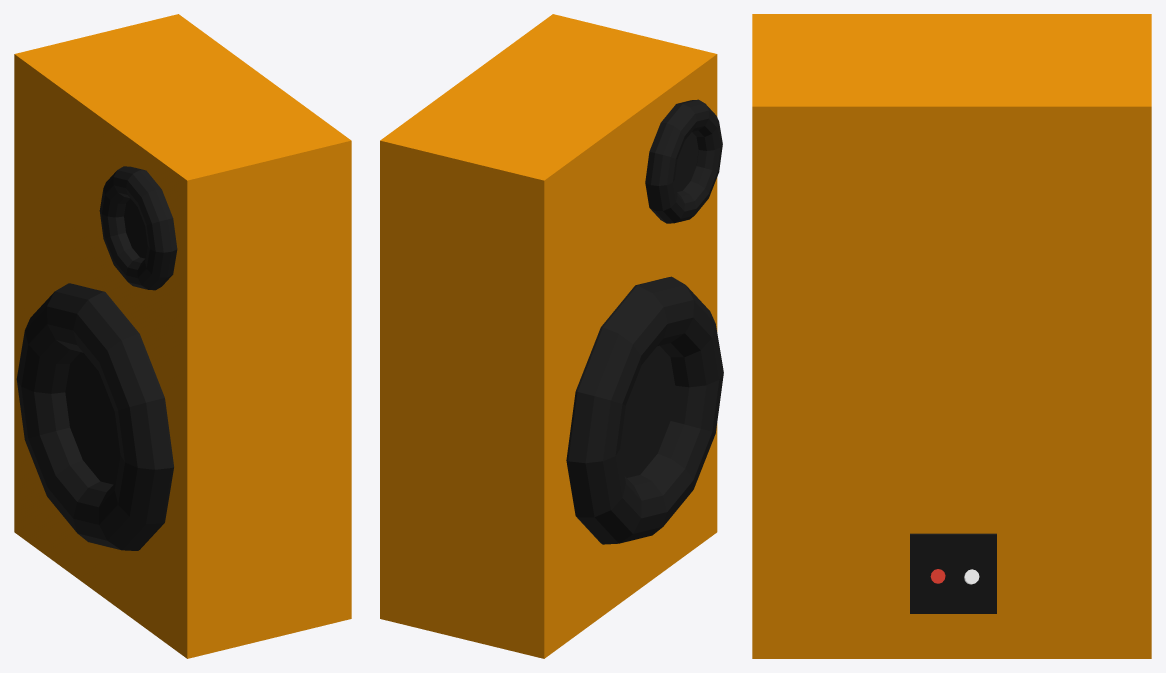
File: wooden-speaker-by-vr-xrtist-4wXvubUVo5h.glb
The picture shows the model from 3 angles, left to right: view 1: azimuth 30°, elevation 25°; view 2: azimuth 150°, elevation 25°; view 3: azimuth 270°, elevation 25°; orthographic projection. The views are drawn at different scales.
Parts seen in each view (by area): view 1: group1649925152, group1355371577, group719373392, group533301086, group1548009495; view 2: group1649925152, group1355371577, group719373392, group533301086, group1548009495; view 3: group1649925152, group1887841276.
Boxes of the visible parts, box(x1,y1,x2,y2) form: group1649925152: box(14, 14, 351, 658); group1355371577: box(16, 283, 173, 550); group719373392: box(99, 166, 177, 290); group533301086: box(65, 352, 120, 484); group1548009495: box(124, 198, 147, 258); group1649925152: box(380, 14, 717, 658); group1355371577: box(566, 276, 723, 544); group719373392: box(645, 99, 722, 223); group533301086: box(620, 345, 675, 477); group1548009495: box(675, 132, 698, 191); group1649925152: box(752, 14, 1151, 658); group1887841276: box(910, 533, 996, 613).
Size of the model in its own units: 0.9352 by 2.06 by 1.35.
